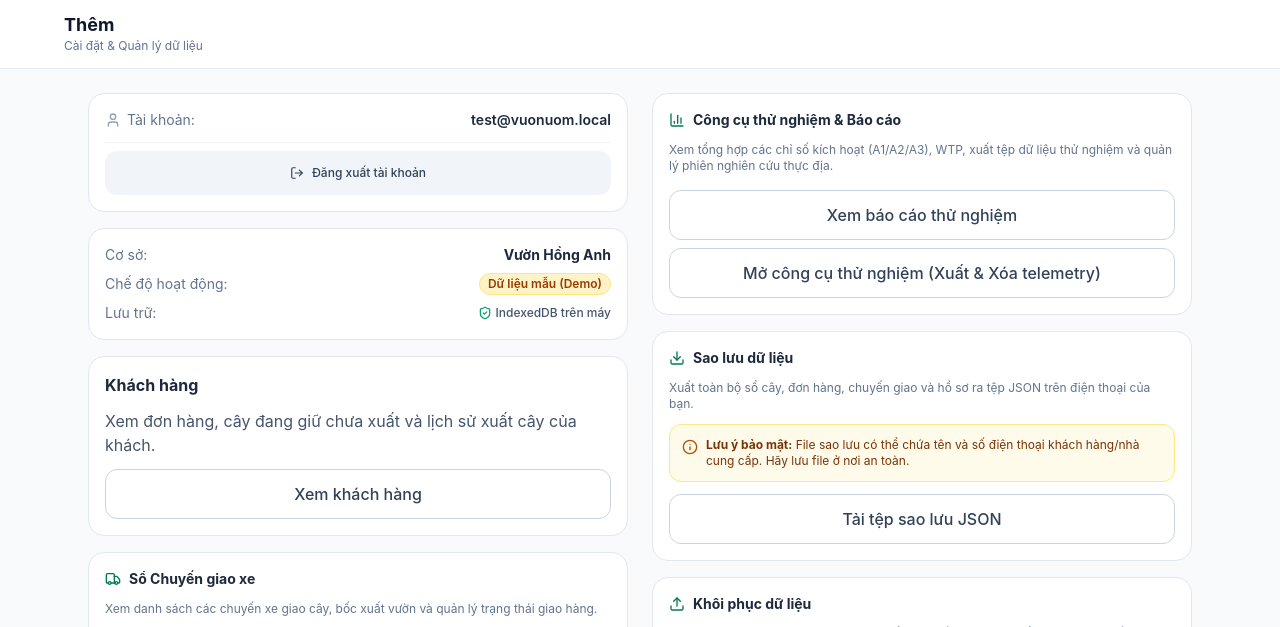
it: MoreScreen › handles backup export download
This screenshot has width=1280, height=627.
Expected: the text "Vườn Hồng Anh" is shown, [504,245,611,265]
Click the button "Tải tệp sao lưu JSON".
click(922, 519)  # box [669,494,1175,544]
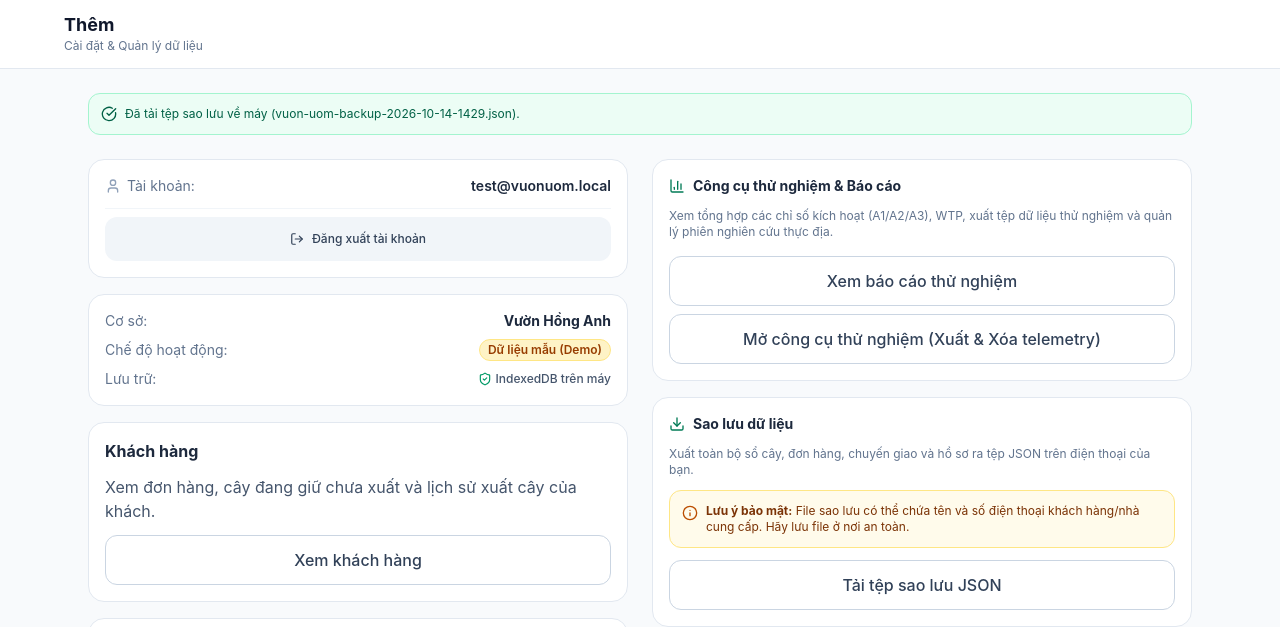
Expected: the text "Đã tải tệp sao lưu về máy" is shown, [125,106,520,121]
